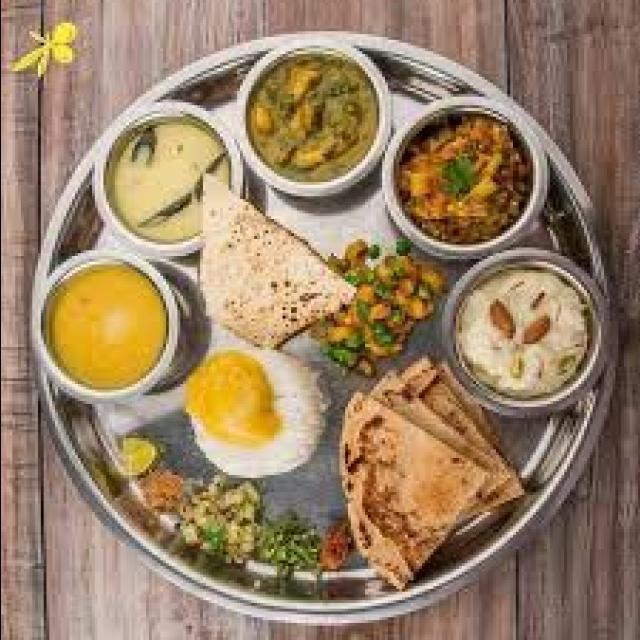dal: (36, 251, 178, 399), (106, 110, 228, 239)
papad: (198, 200, 332, 346)
pickle: (318, 521, 361, 577)
roti: (343, 364, 495, 567)
sweet: (452, 258, 594, 407), (181, 337, 318, 483)
veg-fry: (393, 103, 535, 253), (247, 51, 379, 185)
